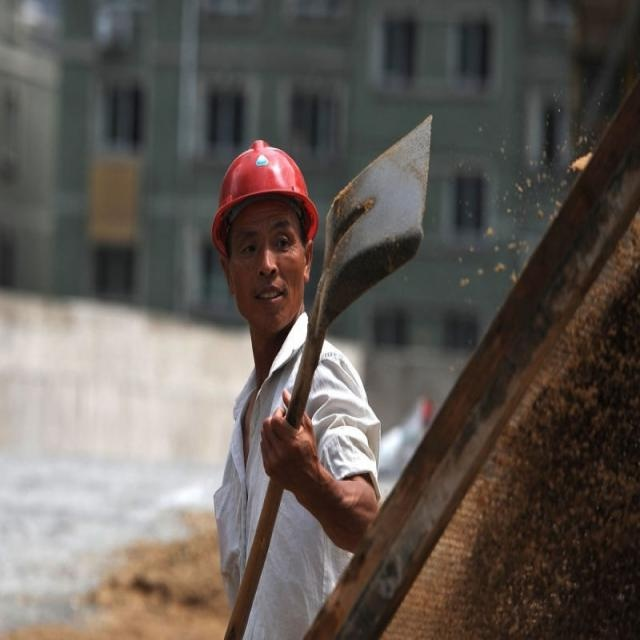Con_Casco: (213, 137, 318, 330)
